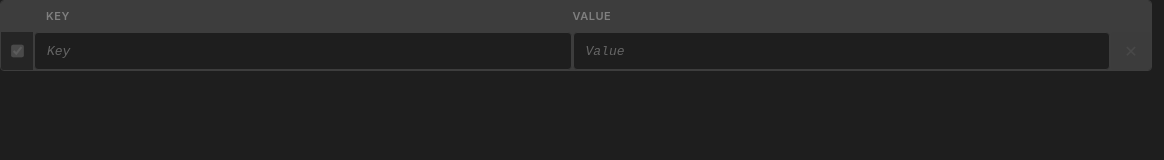
Test: DictionaryInput › Adding rows › should auto-add new row when typing in value field of last row
Type "NewValue" into the field with placeholder "Value". click: (841, 51)
box: [572, 32, 1110, 70]
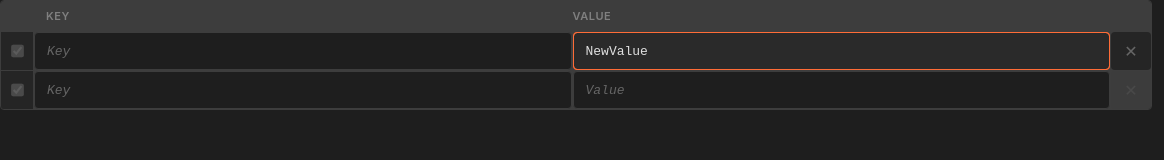
Expected: the number of fields with placeholder "Value" is 2, [572, 32, 1110, 70]; [572, 71, 1110, 109]
Expected: the field with placeholder "Value" is empty, [572, 71, 1110, 109]
